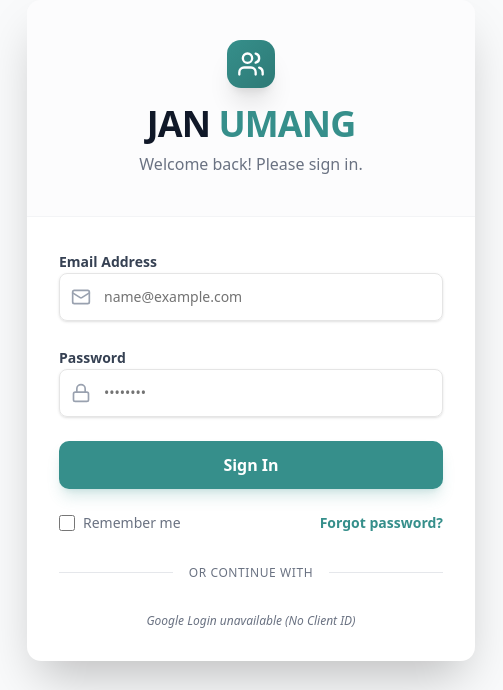
Test case: Authentication Flow › should show validation errors for empty fields
Click the submit button: coordinates (251, 465) [59,441,443,489]
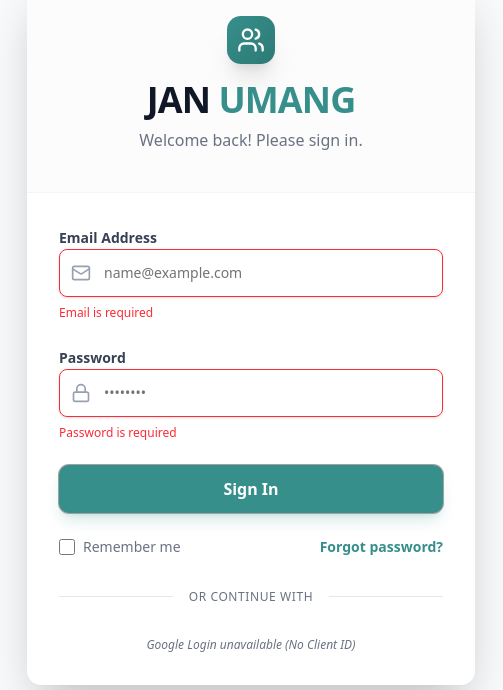
Now the text "Email is required" is shown, box [59,304,153,320]
Now the text "Password is required" is shown, box [59,424,177,440]
